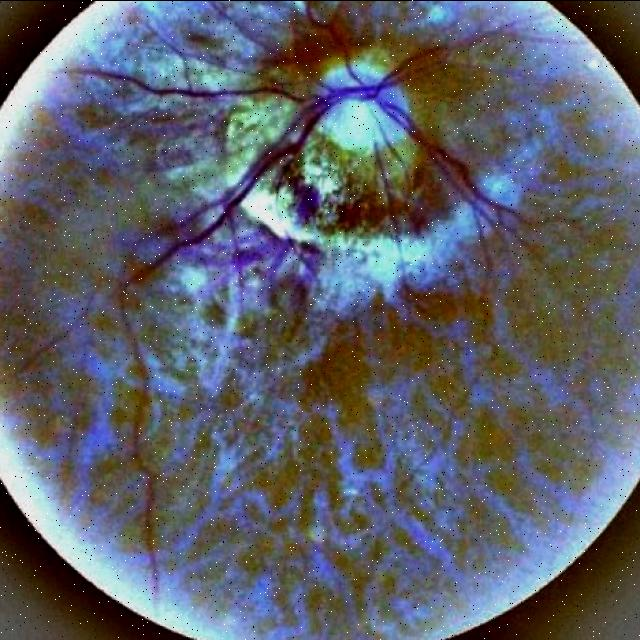Macula: (268, 273, 310, 334)
Nerves: (147, 95, 359, 275), (386, 102, 495, 293), (51, 67, 309, 106)
Optic Disk: (227, 63, 425, 248)
